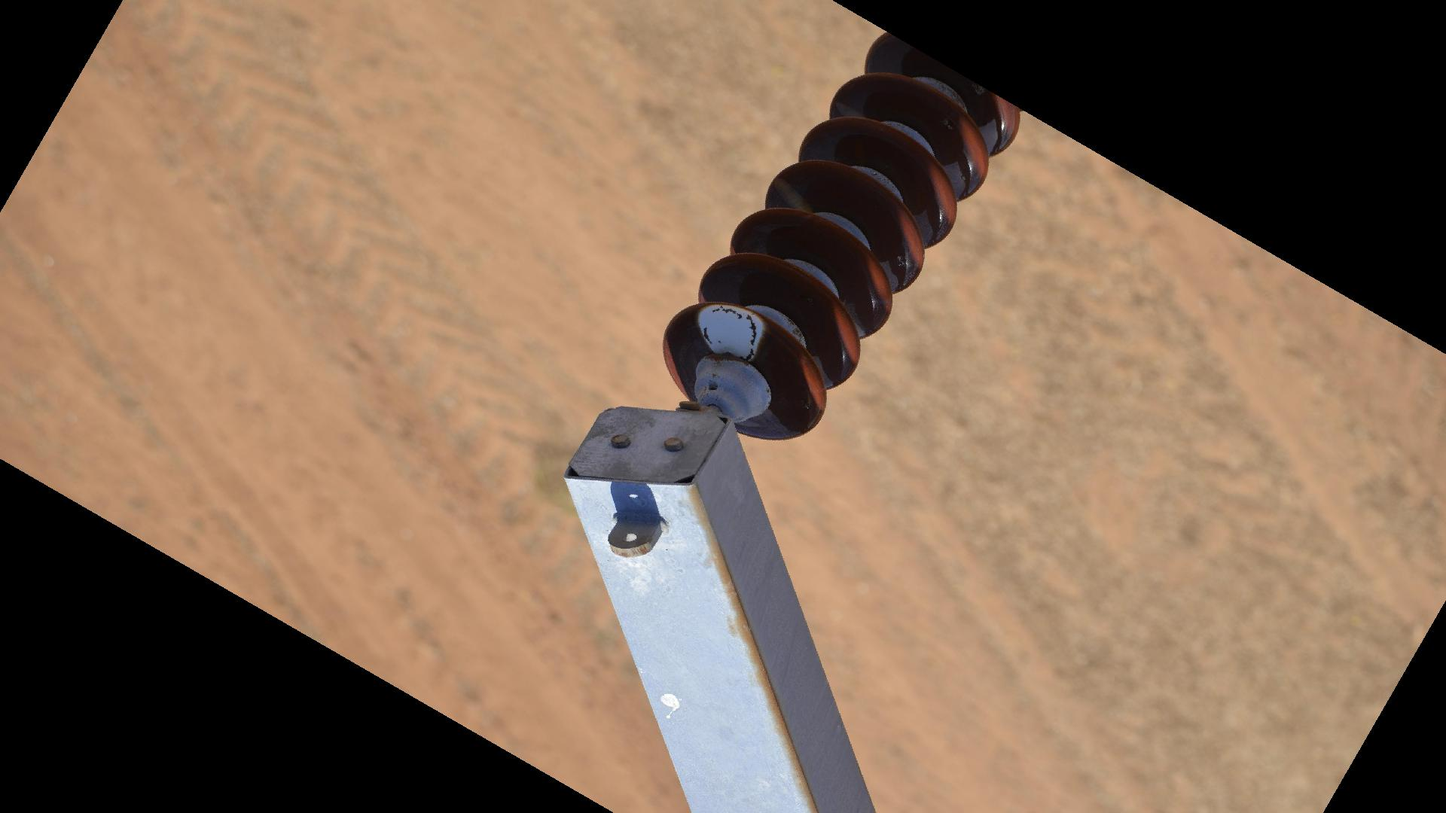insulator: (655, 23, 1032, 451)
insulator_flashover: (694, 301, 770, 361), (771, 175, 815, 214)
